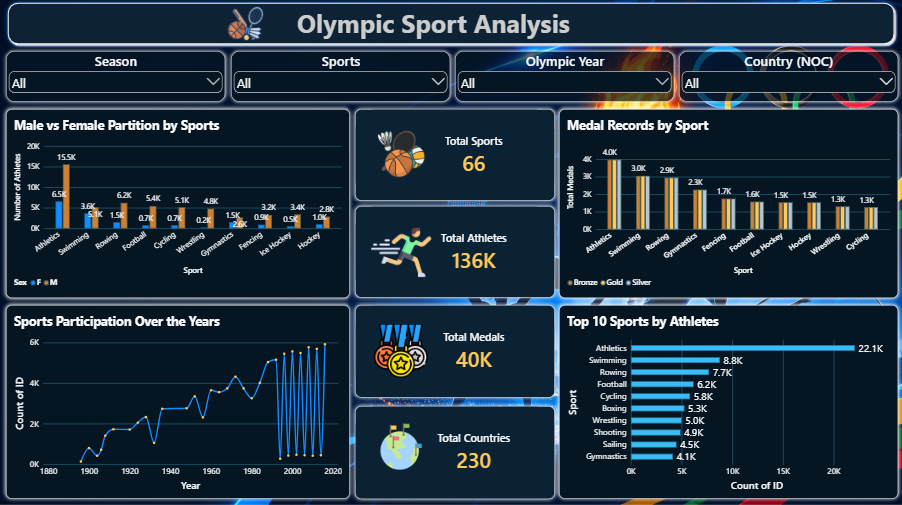

The page's visual inventory and layout, read from the dashboard file:
{"tool":"powerbi","page":{"name":"Sports","canvas":[1920,1080],"ordinal":2},"visuals":[{"type":"cardVisual","fields":{"Data":["athlete_events.Total Sports"]},"box":[754.7,233.9,425.2,195],"z":0},{"type":"cardVisual","fields":{"Data":["athlete_events.Total Medal Records"]},"box":[754.7,650.6,425.2,197],"z":1000},{"type":"cardVisual","fields":{"Data":["athlete_events.Total Countries"]},"box":[754.7,865.3,425.2,197.7],"z":2000},{"type":"cardVisual","fields":{"Data":["athlete_events.Total Athletes"]},"box":[754.7,440.1,425.2,195],"z":3000},{"type":"clusteredBarChart","title":"Top 10 Sports by Athletes","fields":{"Category":["athlete_events.Sport"],"Y":["Count(athlete_events.ID)"]},"box":[1188.4,650.6,720.7,412.4],"z":4000},{"type":"clusteredColumnChart","title":"Medal Records by Sport","fields":{"Category":["athlete_events.Sport"],"Series":["athlete_events.Medal"],"Y":["athlete_events.Total Medals"]},"box":[1188.4,233.9,720.7,401.8],"z":5000},{"type":"clusteredColumnChart","title":"Male vs Female Partition  by Sports","fields":{"Category":["athlete_events.Sport"],"Series":["athlete_events.Sex"],"Y":["Count(athlete_events.ID)"]},"box":[12.8,233.9,731.3,401.8],"z":6000},{"type":"lineChart","title":"Sports Participation Over the Years","fields":{"Category":["athlete_events.Year"],"Y":["Count(athlete_events.ID)"]},"box":[12.8,650.6,731.3,412.4],"z":7000},{"type":"slicer","title":"Season","fields":{"Values":["athlete_events.Season"]},"box":[12.8,110.6,465.6,108.4],"z":8000},{"type":"slicer","title":"Sports","fields":{"Values":["athlete_events.Sport"]},"box":[491.1,110.6,465.6,108.4],"z":9000},{"type":"slicer","title":"Country (NOC)","fields":{"Values":["country_definitions.region"]},"box":[1443.5,110.6,465.6,108.4],"z":10000},{"type":"slicer","title":"Olympic Year","fields":{"Values":["athlete_events.Year"]},"box":[967.3,110.6,465.6,108.4],"z":11000},{"type":"image","box":[788.7,467.7,127.6,142.4],"z":12000},{"type":"image","box":[788.7,278.5,127.6,102],"z":13000},{"type":"image","box":[788.7,690.9,127.6,115],"z":14000},{"type":"image","box":[788.7,899.3,127.6,104.2],"z":15000},{"type":"shape","box":[8.5,0,1901,104.2],"z":17000},{"type":"image","box":[457.1,12.8,129.7,78.7],"z":18000}]}

Visuals, with their boxes in screenshot pixels (x1, y1, x2, y2), scaled from the page's 1920x1080 canvas onto the 902x505 screenshot:
cardVisual - athlete_events.Total Sports: (x1=355, y1=109, x2=554, y2=201)
cardVisual - athlete_events.Total Medal Records: (x1=355, y1=304, x2=554, y2=396)
cardVisual - athlete_events.Total Countries: (x1=355, y1=405, x2=554, y2=497)
cardVisual - athlete_events.Total Athletes: (x1=355, y1=206, x2=554, y2=297)
"Top 10 Sports by Athletes" clusteredBarChart: (x1=558, y1=304, x2=897, y2=497)
"Medal Records by Sport" clusteredColumnChart: (x1=558, y1=109, x2=897, y2=297)
"Male vs Female Partition  by Sports" clusteredColumnChart: (x1=6, y1=109, x2=350, y2=297)
"Sports Participation Over the Years" lineChart: (x1=6, y1=304, x2=350, y2=497)
"Season" slicer: (x1=6, y1=52, x2=225, y2=102)
"Sports" slicer: (x1=231, y1=52, x2=449, y2=102)
"Country (NOC)" slicer: (x1=678, y1=52, x2=897, y2=102)
"Olympic Year" slicer: (x1=454, y1=52, x2=673, y2=102)
image: (x1=371, y1=219, x2=430, y2=285)
image: (x1=371, y1=130, x2=430, y2=178)
image: (x1=371, y1=323, x2=430, y2=377)
image: (x1=371, y1=421, x2=430, y2=469)
shape: (x1=4, y1=0, x2=897, y2=49)
image: (x1=215, y1=6, x2=276, y2=43)
